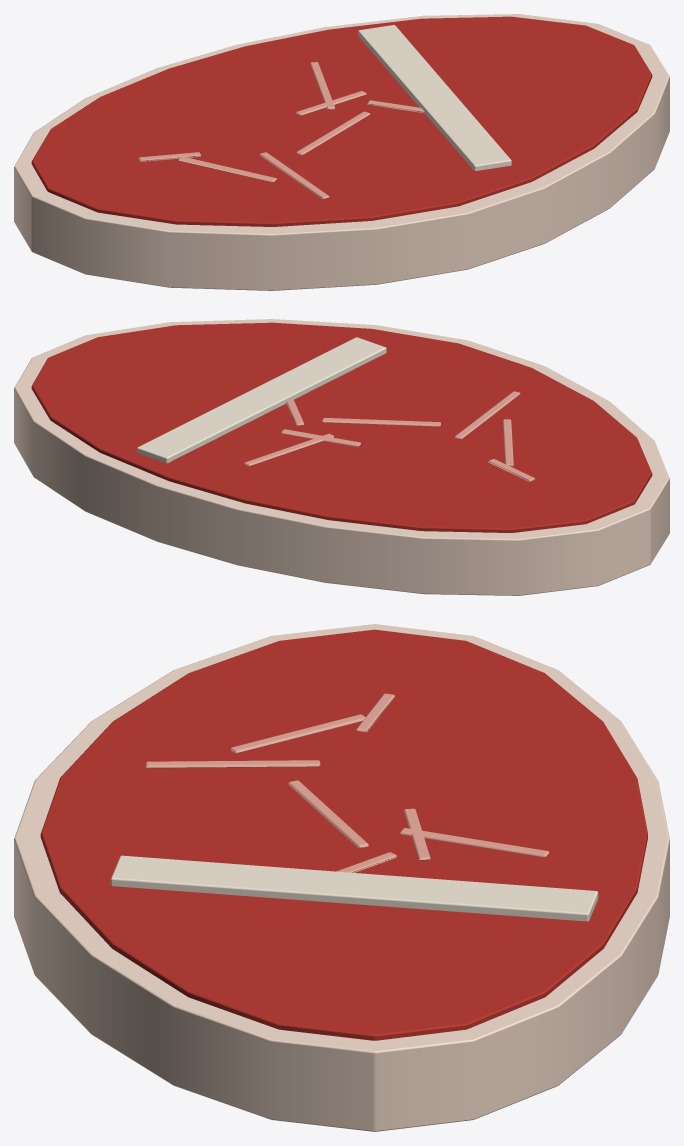
The model's file is Steak.glb.
The picture shows the model from 3 angles, top to bottom: view 1: azimuth 30°, elevation 25°; view 2: azimuth 150°, elevation 25°; view 3: azimuth 270°, elevation 25°; orthographic projection. The views are drawn at different scales.
Visible parts, largest first — view 1: Steak; view 2: Steak; view 3: Steak.
Part boxes in pixels (x1,y1,x2,y2): Steak: (14,14,669,290); Steak: (14,319,669,595); Steak: (14,624,669,1131).
Size of the model in its own units: 0.2504 by 0.0271 by 0.162.
